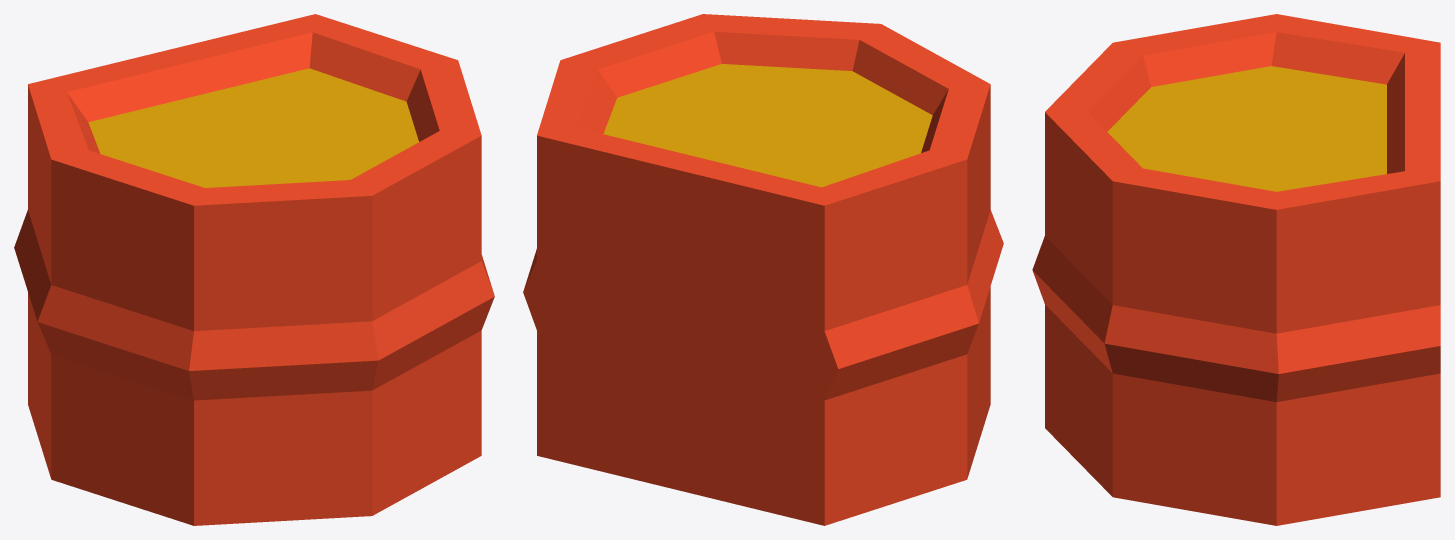
Rendered from SM_Lamp_Wall_B_City.fbx.
3 renders of one model, left to right at view 1: azimuth 30°, elevation 25°; view 2: azimuth 150°, elevation 25°; view 3: azimuth 270°, elevation 25°, orthographic.
Visible parts, largest first — view 1: SM_Lamp_Wall_B_City; view 2: SM_Lamp_Wall_B_City; view 3: SM_Lamp_Wall_B_City.
Boxes of the visible parts, bbox=[...] form: SM_Lamp_Wall_B_City: bbox=[14, 14, 494, 525]; SM_Lamp_Wall_B_City: bbox=[523, 14, 1003, 525]; SM_Lamp_Wall_B_City: bbox=[1032, 14, 1440, 525].
Size of the model in its own units: 0.2303 by 0.1629 by 0.1907.
